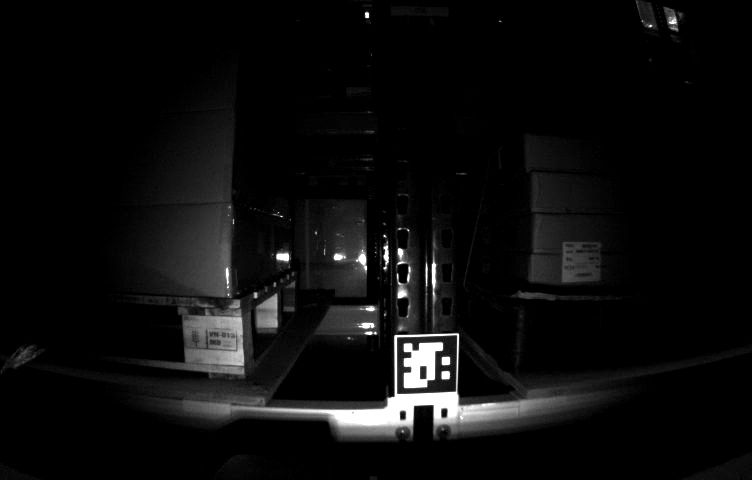True Barcode: (559, 240, 604, 285)
